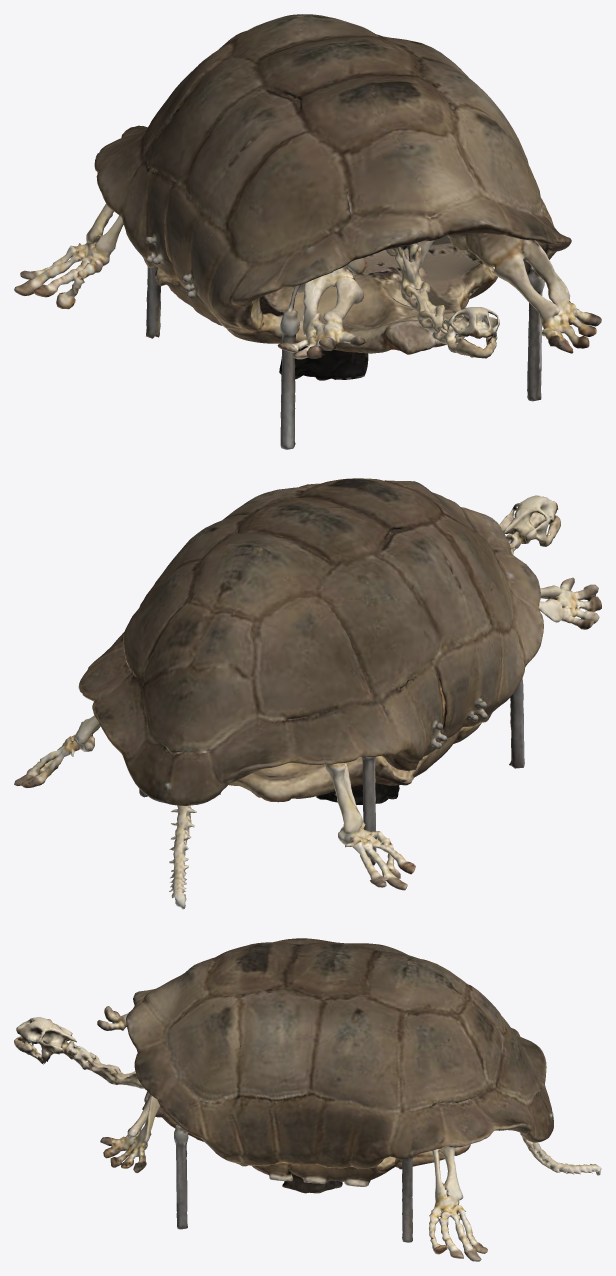
File: geochelone.gltf
The picture shows the model from 3 angles, top to bottom: view 1: azimuth 30°, elevation 25°; view 2: azimuth 150°, elevation 25°; view 3: azimuth 270°, elevation 25°; orthographic projection. The views are drawn at different scales.
Size of the model in its own units: 0.9582 by 0.6269 by 1.41.
Materials: 1 (1 with a texture image).
